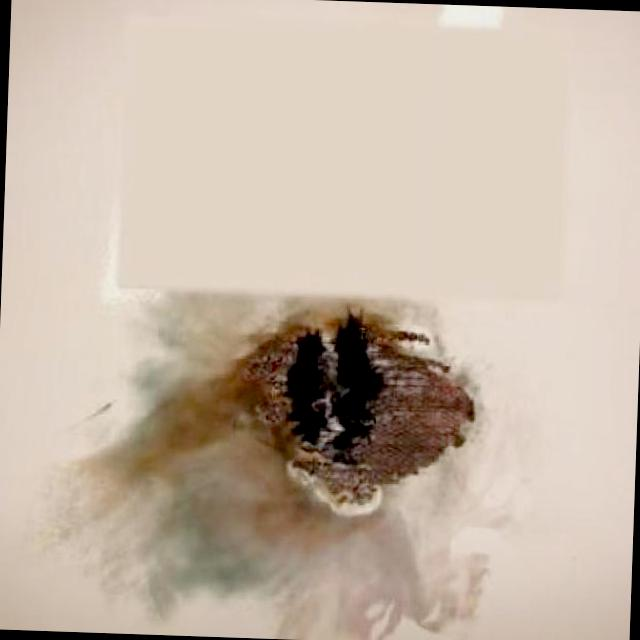crack: (236, 307, 472, 506)
